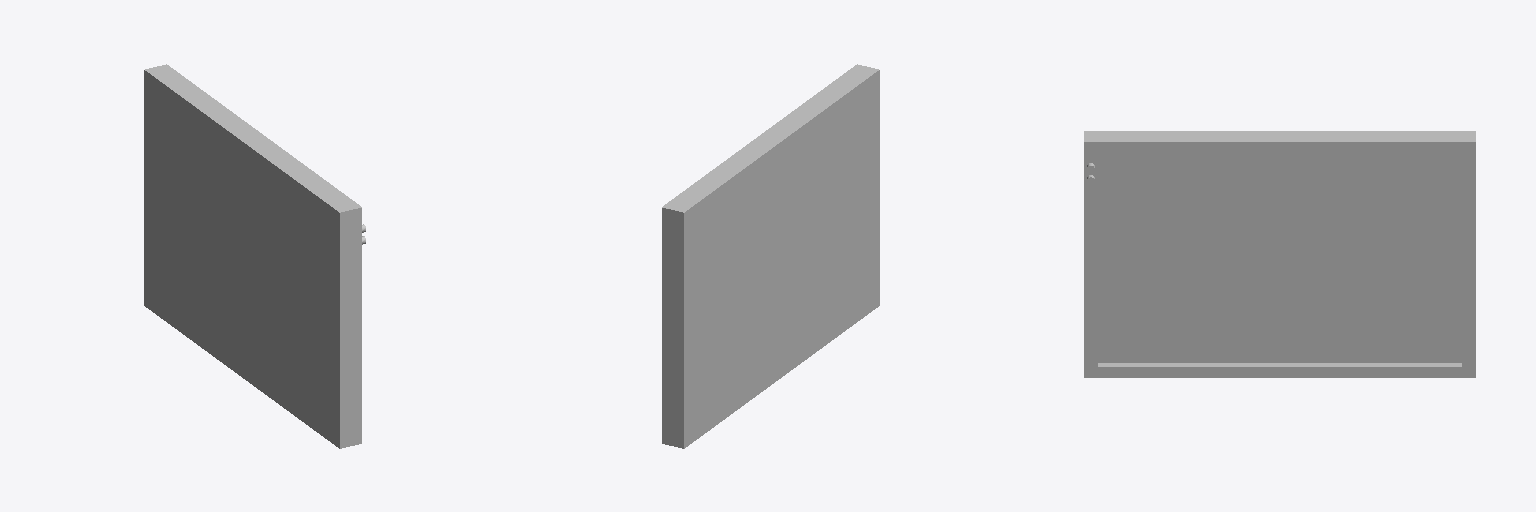
Rendered from monitor.obj.
3 renders of one model, left to right at view 1: azimuth 30°, elevation 25°; view 2: azimuth 150°, elevation 25°; view 3: azimuth 270°, elevation 25°, orthographic.
Visible parts, largest first — view 1: Cube; view 2: Cube; view 3: Cube.
Part boxes in pixels (x1,y1,x2,y2): Cube: (144,64,365,448); Cube: (662,64,879,448); Cube: (1084,131,1475,377).
Size of the model in its own units: 0.2461 by 2 by 3.